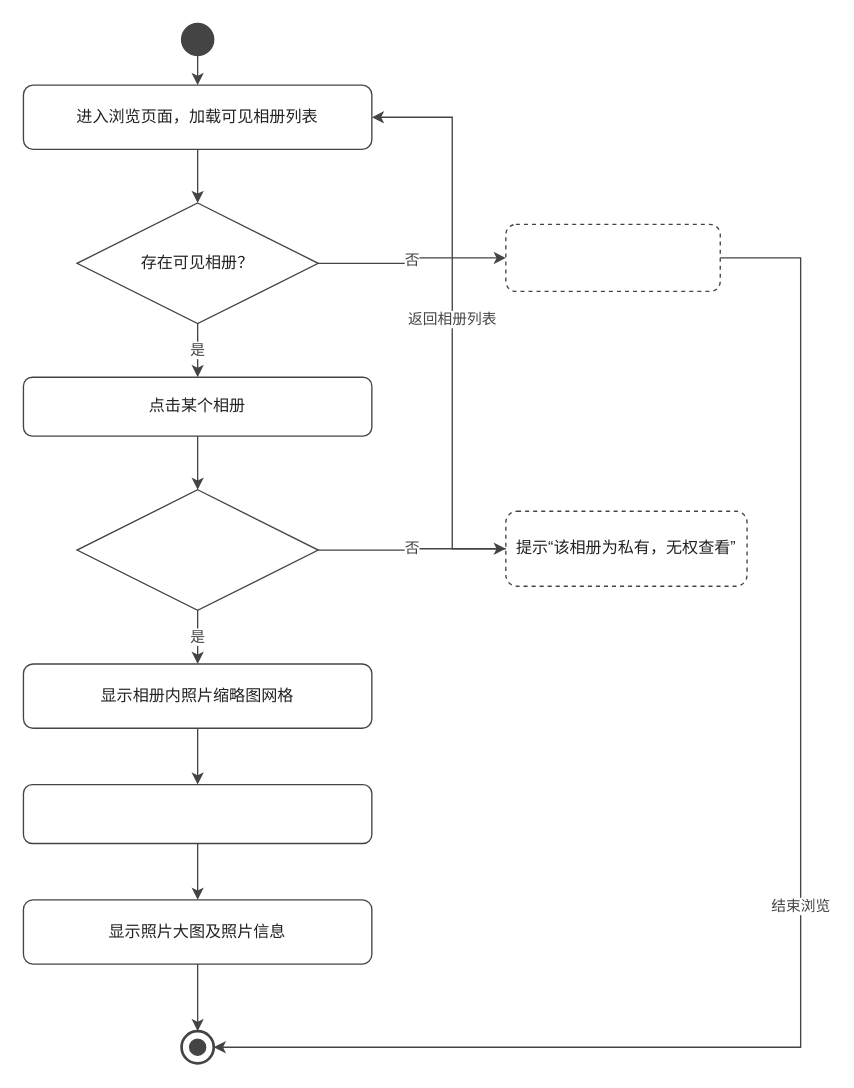
This 854x1088 diagram has some shape labels left out. Each missing label, with the centre of its shape:
"显示“暂无相册”" belongs at pixel 612 257.
"点击某张缩略图" belongs at pixel 197 813.
"相册可查看？" belongs at pixel 197 549.
